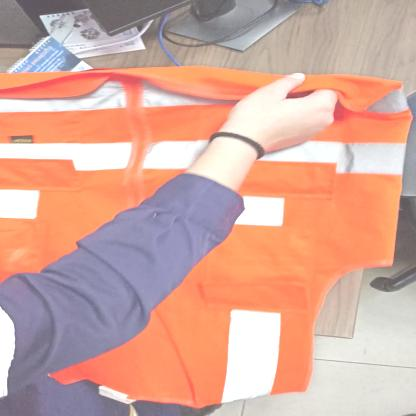colete: (0, 70, 410, 402)
